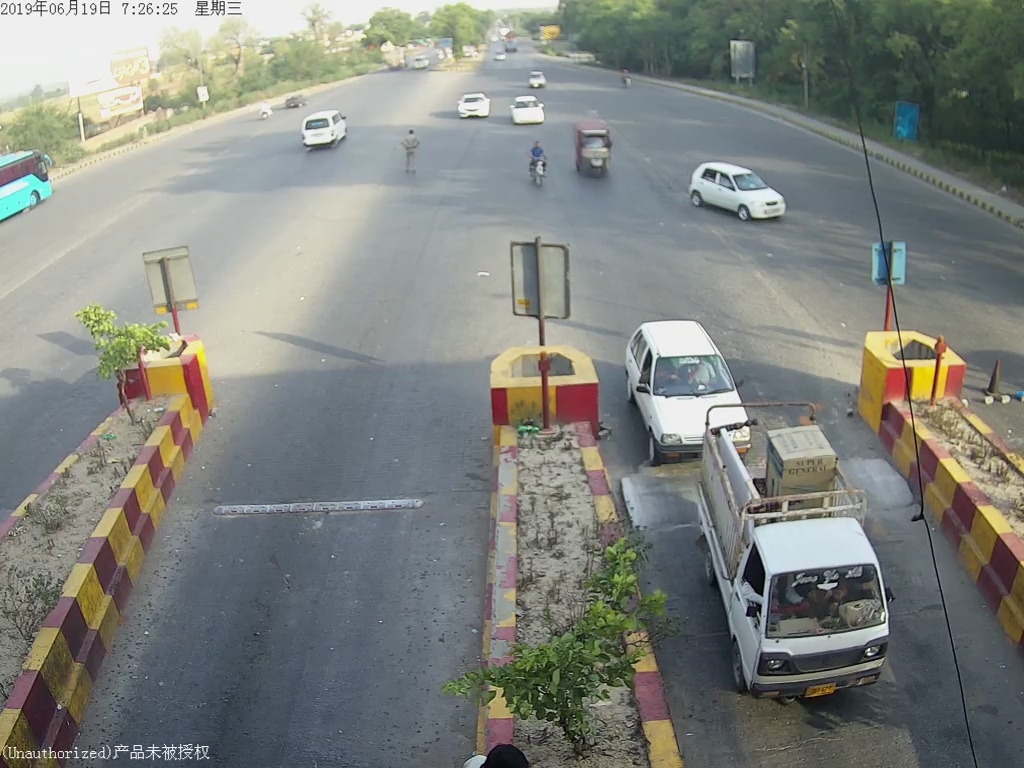Cat-1: (700, 402, 909, 710)
